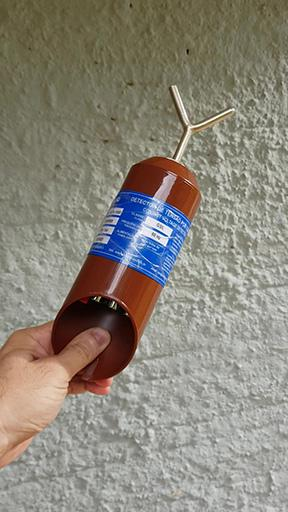Detector_Tensao_Contato: (49, 83, 235, 384)
